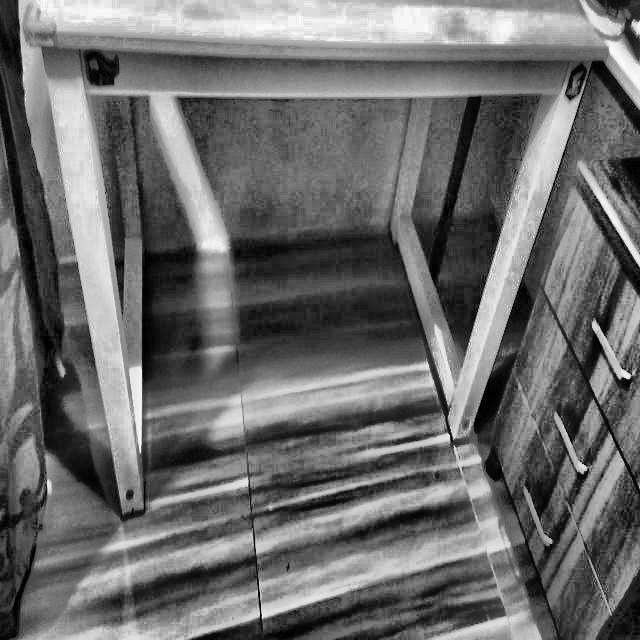mesa: (15, 0, 591, 497)
